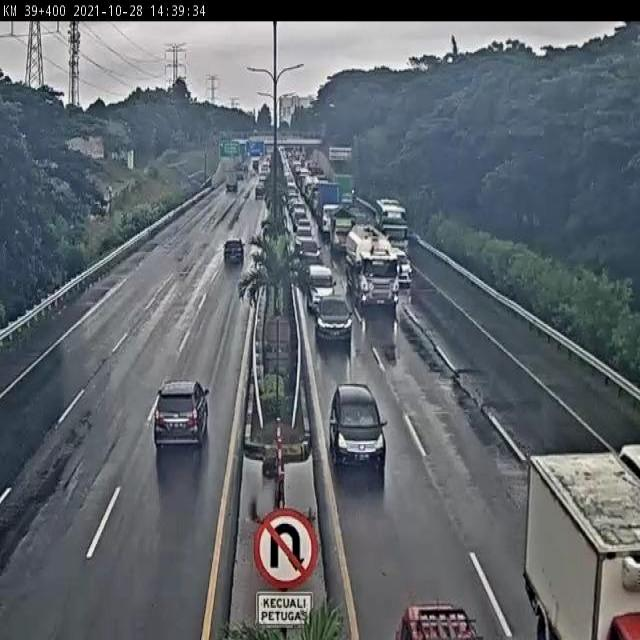Bus: (375, 198, 411, 255)
Car: (328, 382, 389, 482), (151, 378, 211, 464), (316, 296, 356, 348), (305, 264, 337, 309), (392, 248, 413, 284), (222, 238, 246, 267), (298, 241, 323, 262), (293, 227, 317, 246), (254, 184, 265, 201)
Truck: (521, 452, 640, 640), (346, 223, 402, 315), (330, 206, 357, 254), (319, 182, 344, 233)
